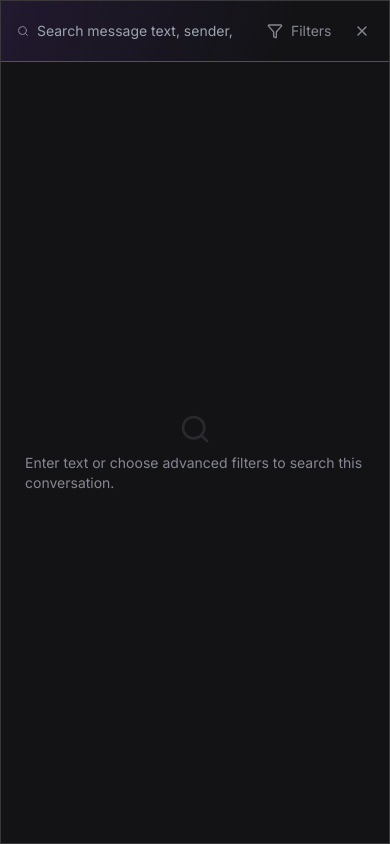
it: MessageSearch › sends composable Premium filters with timezone-normalized date boundaries
Click the button "Filters" at (299, 31), box [255,13,344,49]
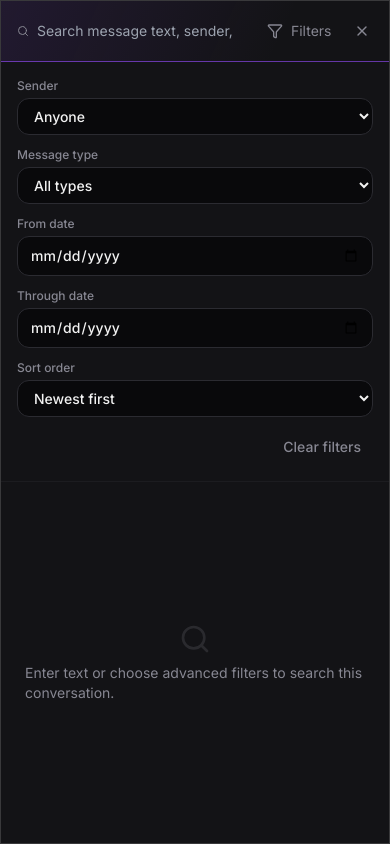
Select "Taylor" in the dropdown labelled "Sender" at (195, 116), box [17,98,373,135]
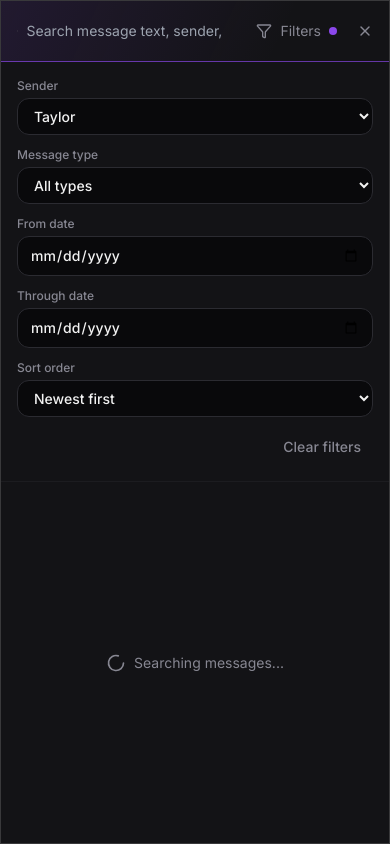
Select "Audio" in the dropdown labelled "Message type" at (195, 186), box [17,167,373,204]
Type "2026-09-01" into the date field labelled "From date" at (195, 256), box [17,236,373,276]
Type "2026-09-03" into the date field labelled "Through date" at (195, 328), box [17,308,373,348]
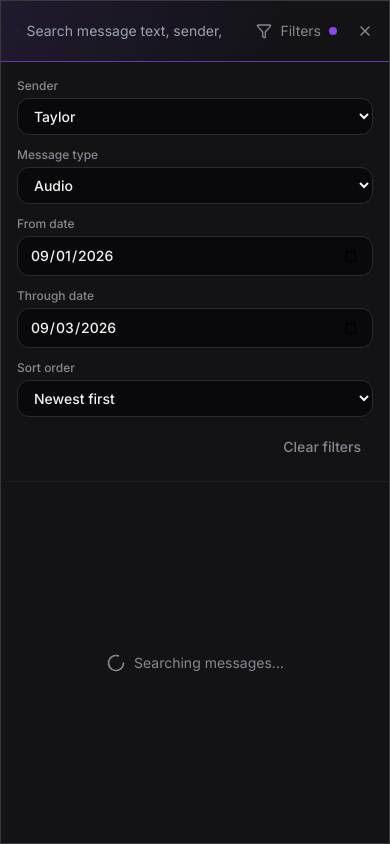
Select "Oldest first" in the dropdown labelled "Sort order" at (195, 398), box [17,380,373,417]
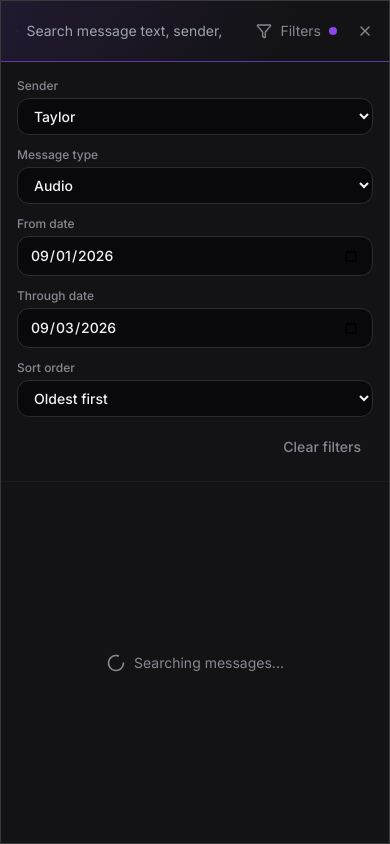
Type "hook" into the search field named "Search messages" at (132, 31), box [26,21,236,41]
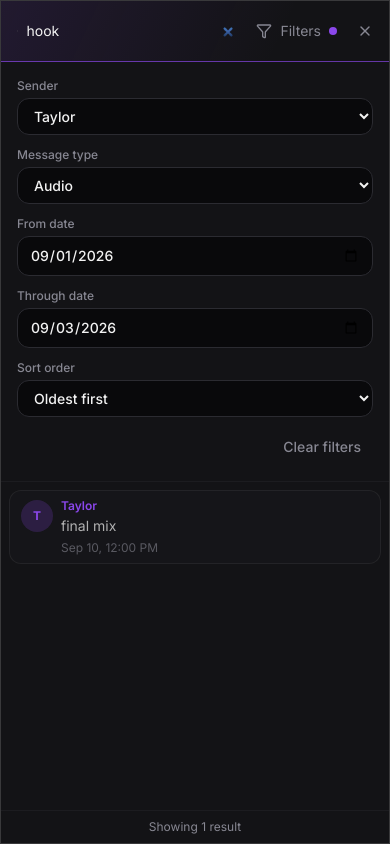
Click the button "Clear filters" at (322, 447), box [271,429,373,465]
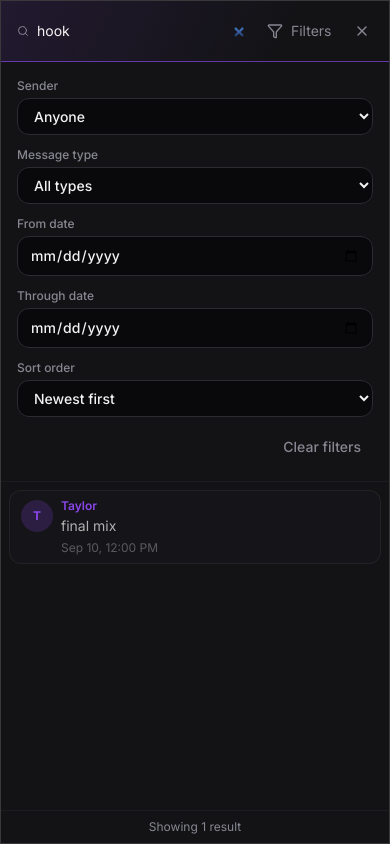
Check: the date field labelled "From date" is empty, box [17,236,373,276]
Check: the date field labelled "Through date" is empty, box [17,308,373,348]
